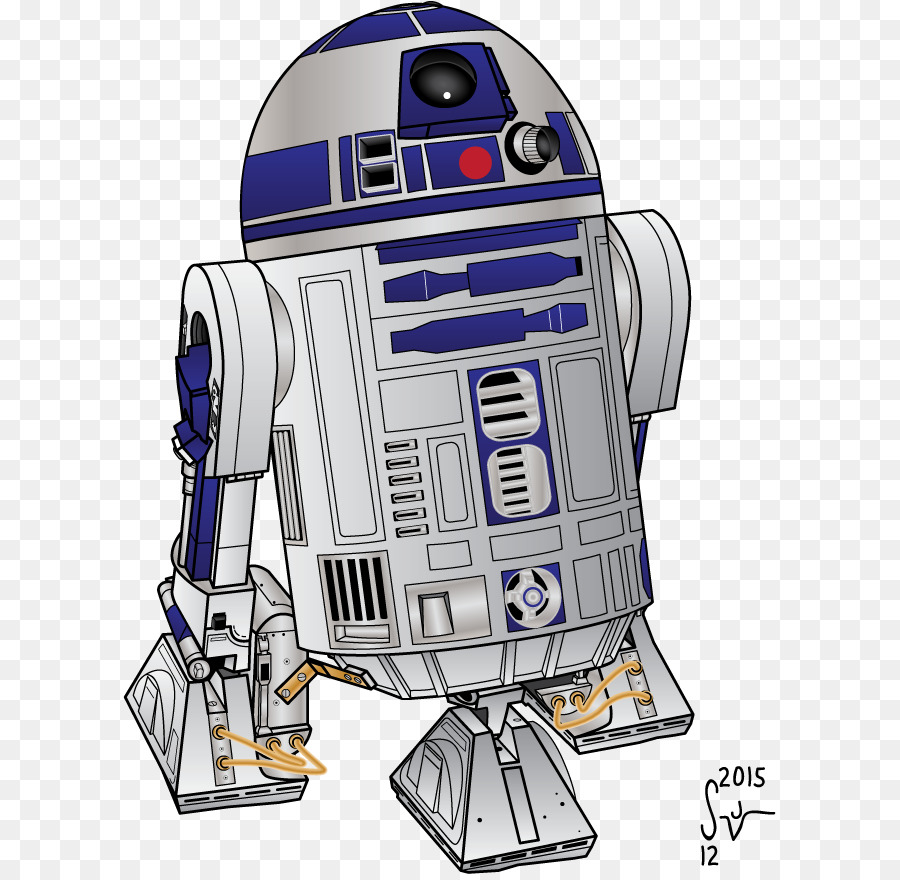r2d2: (124, 1, 691, 869)
